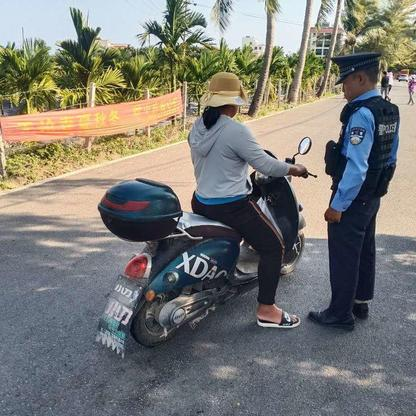target: (91, 70, 319, 352)
